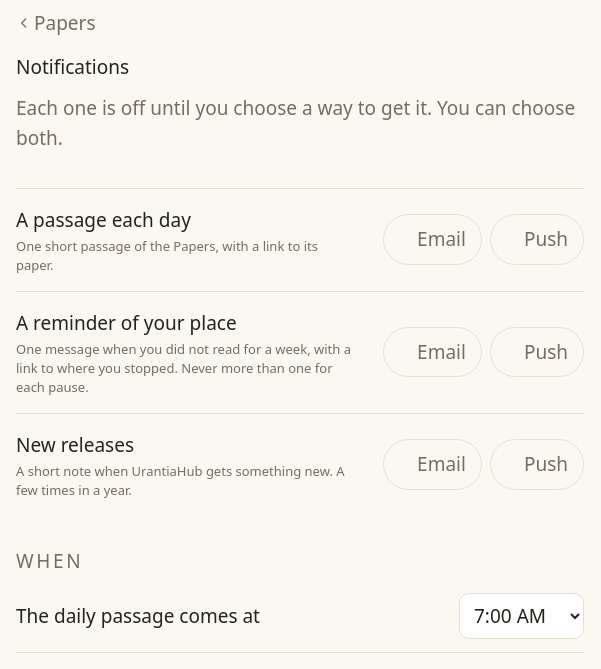
Test: the Notifications page › goes back and says so when the account did not take a change
Click the button "Email" in the row of "New releases": (432, 465) [383,439,482,490]
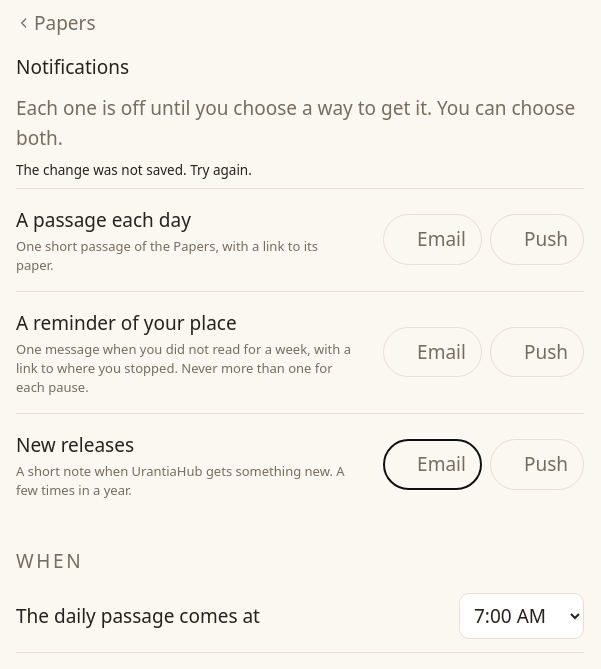
Now the text "The change was not saved. Try again." is shown, box [16,161,252,179]
